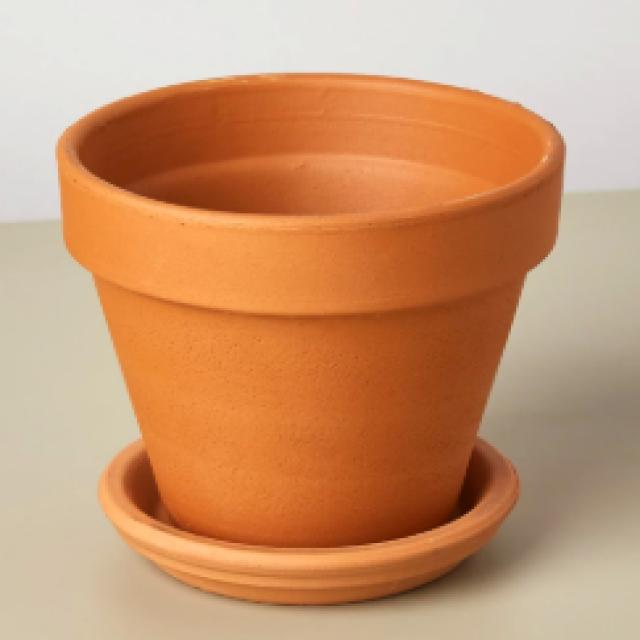Plant Pot: (36, 74, 592, 600)
